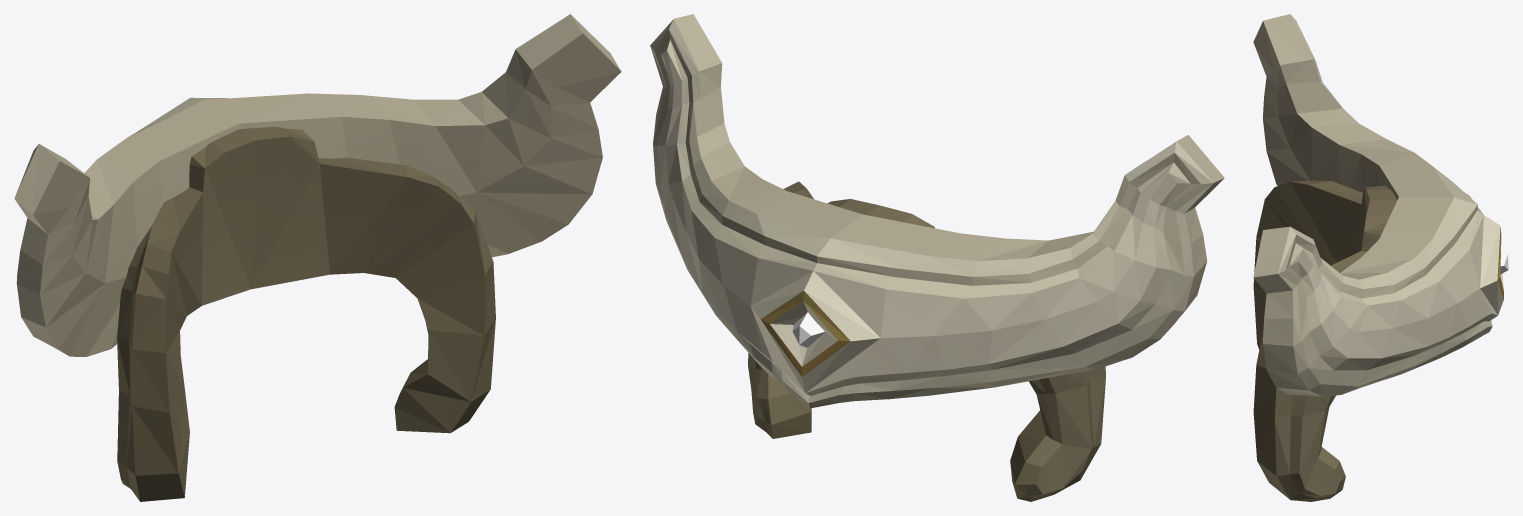
The model's file is CharSkyKid_Mask_ElderDawn.glb.
3 renders of one model, left to right at view 1: azimuth 30°, elevation 25°; view 2: azimuth 150°, elevation 25°; view 3: azimuth 270°, elevation 25°, orthographic. The views are drawn at different scales.
Visible parts, largest first — view 1: CharSkyKid_Mask_ElderDawn; view 2: CharSkyKid_Mask_ElderDawn; view 3: CharSkyKid_Mask_ElderDawn.
Boxes of the visible parts, x1,y1,x2,y2 form: CharSkyKid_Mask_ElderDawn: [14, 14, 621, 501]; CharSkyKid_Mask_ElderDawn: [650, 14, 1224, 501]; CharSkyKid_Mask_ElderDawn: [1253, 14, 1508, 501].
Size of the model in its own units: 3.91 by 2.48 by 1.77.
Materials: 1 (1 with a texture image).
